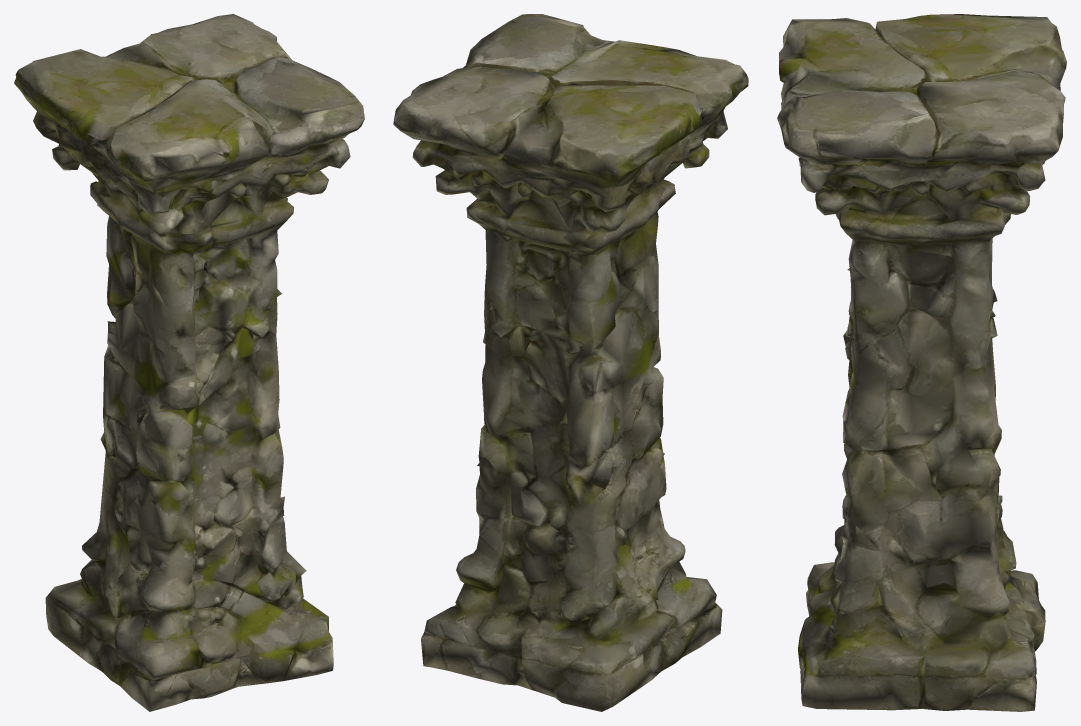
The model's file is pillar.glb.
3 views of the same model, side by side, from view 1: azimuth 30°, elevation 25°; view 2: azimuth 150°, elevation 25°; view 3: azimuth 270°, elevation 25° (orthographic). The views are drawn at different scales.
Parts seen in each view (by area): view 1: tripo_node_653da43c-360a-4dc9-9d58-abe72a206753; view 2: tripo_node_653da43c-360a-4dc9-9d58-abe72a206753; view 3: tripo_node_653da43c-360a-4dc9-9d58-abe72a206753.
Part boxes in pixels (left/top/right/bottom): tripo_node_653da43c-360a-4dc9-9d58-abe72a206753: left=14, top=14, right=364, bottom=711; tripo_node_653da43c-360a-4dc9-9d58-abe72a206753: left=393, top=14, right=748, bottom=711; tripo_node_653da43c-360a-4dc9-9d58-abe72a206753: left=777, top=14, right=1066, bottom=711.
Bounding box in the file's own units: 0.4339 × 0.9773 × 0.4321.
1 material, 1 textured.
